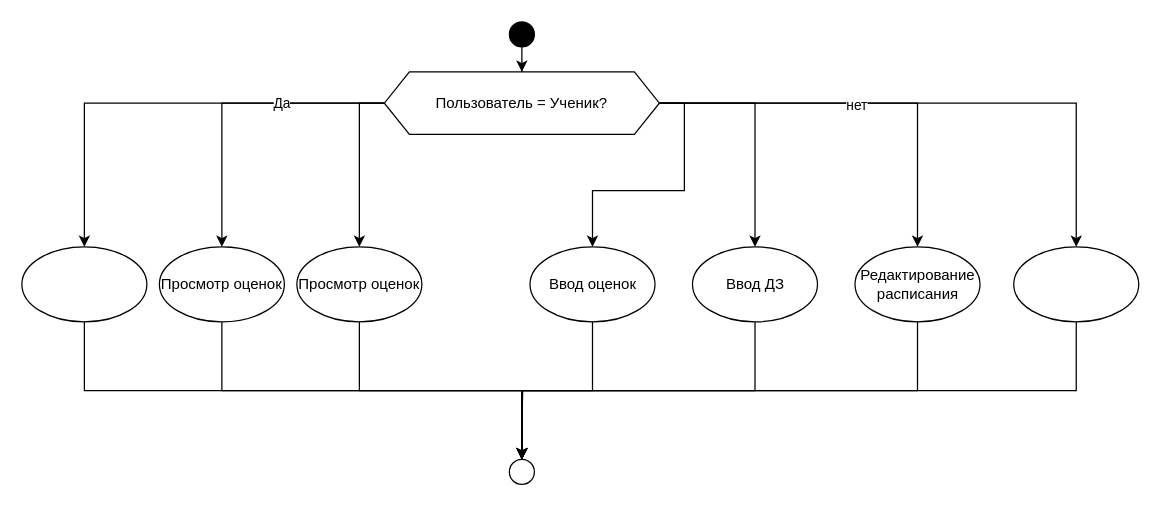
Some shapes in this 1161 by 506 pixel diagram are drawn without their labels. Each missing label, with the centre of its shape:
"Просмотр Д/З" goes at (84,284).
"Просмотр списка учеников" goes at (1075,284).
